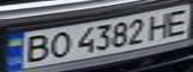2: (127, 16, 151, 45)
3: (93, 21, 115, 52)
4: (75, 25, 96, 55)
8: (109, 19, 133, 48)
B: (18, 33, 54, 64)
E: (160, 7, 193, 38)
H: (145, 10, 175, 40)
O: (42, 29, 72, 60)
